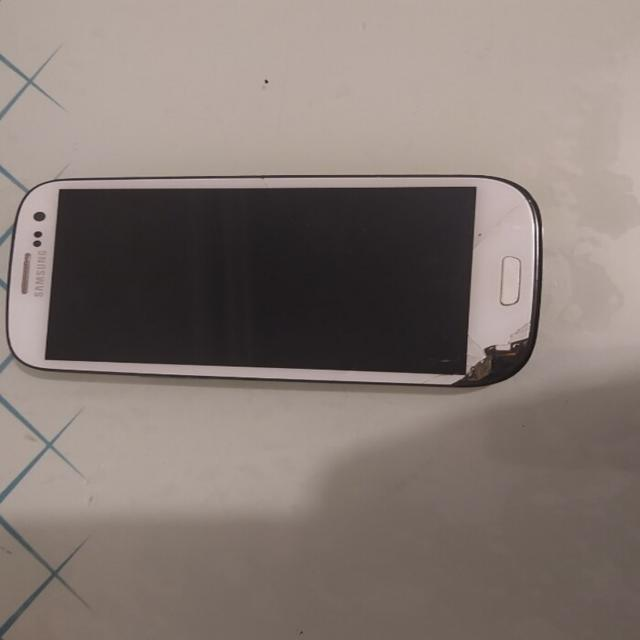Crack: (444, 321, 538, 415)
